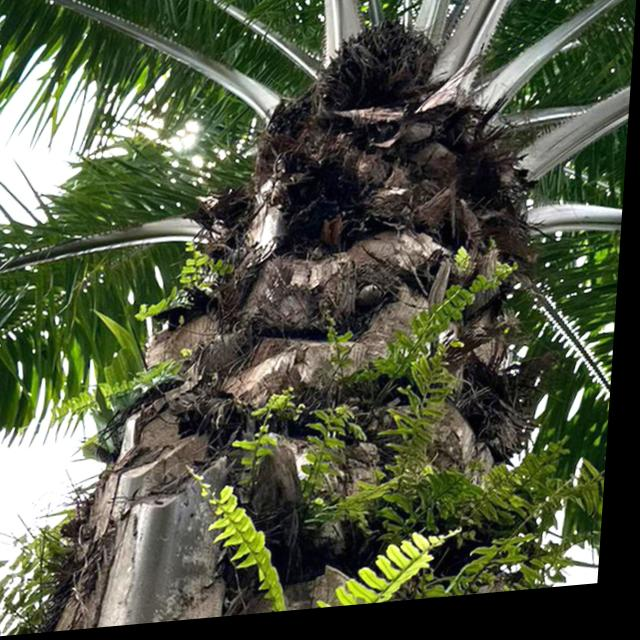almost: (314, 16, 446, 130)
